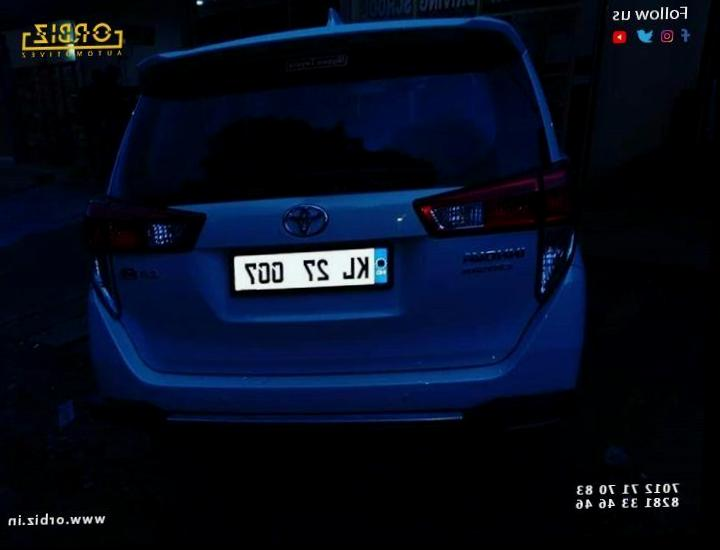License_Plate: (222, 230, 401, 312)
